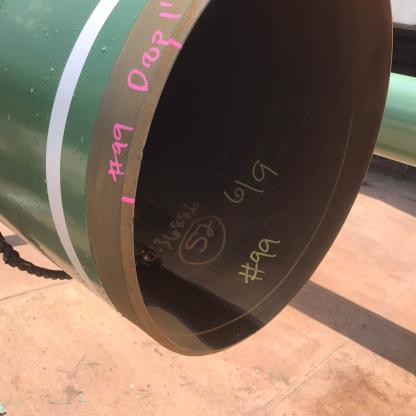Bevel: (127, 144, 157, 166)
